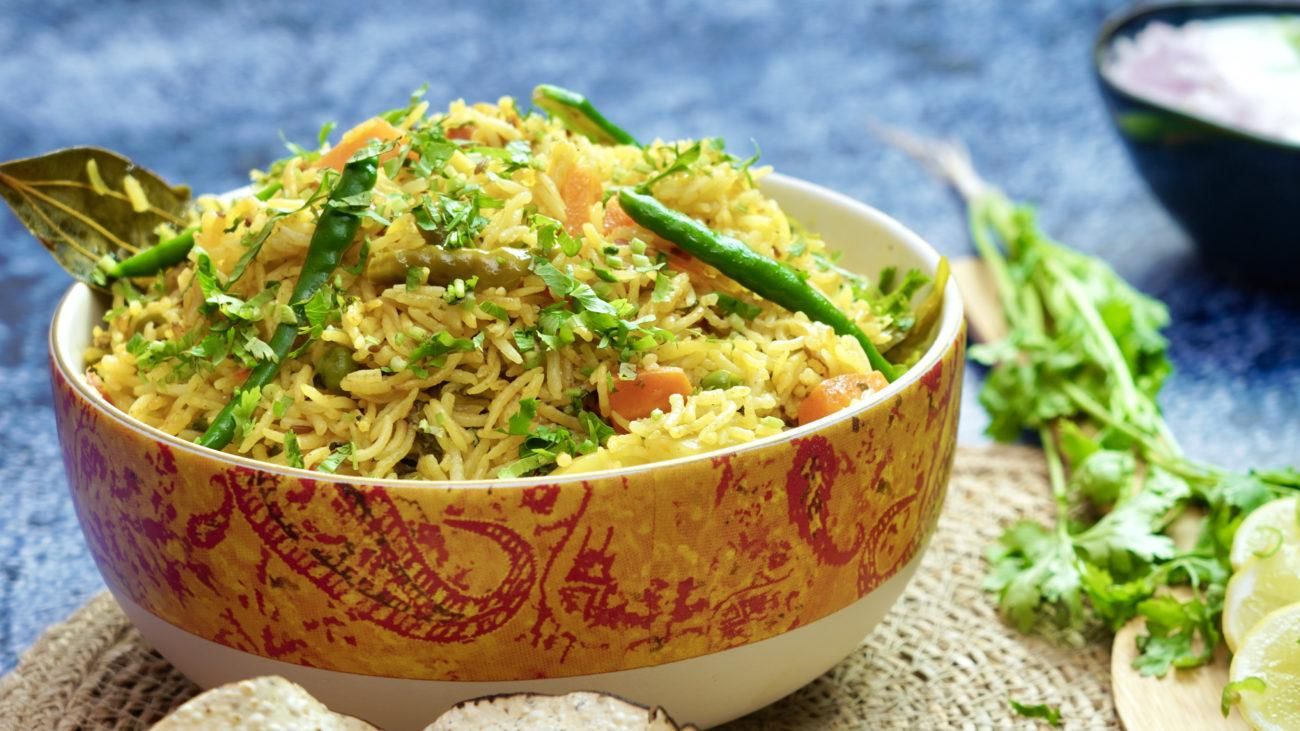veg-pulao: (86, 68, 906, 472)
